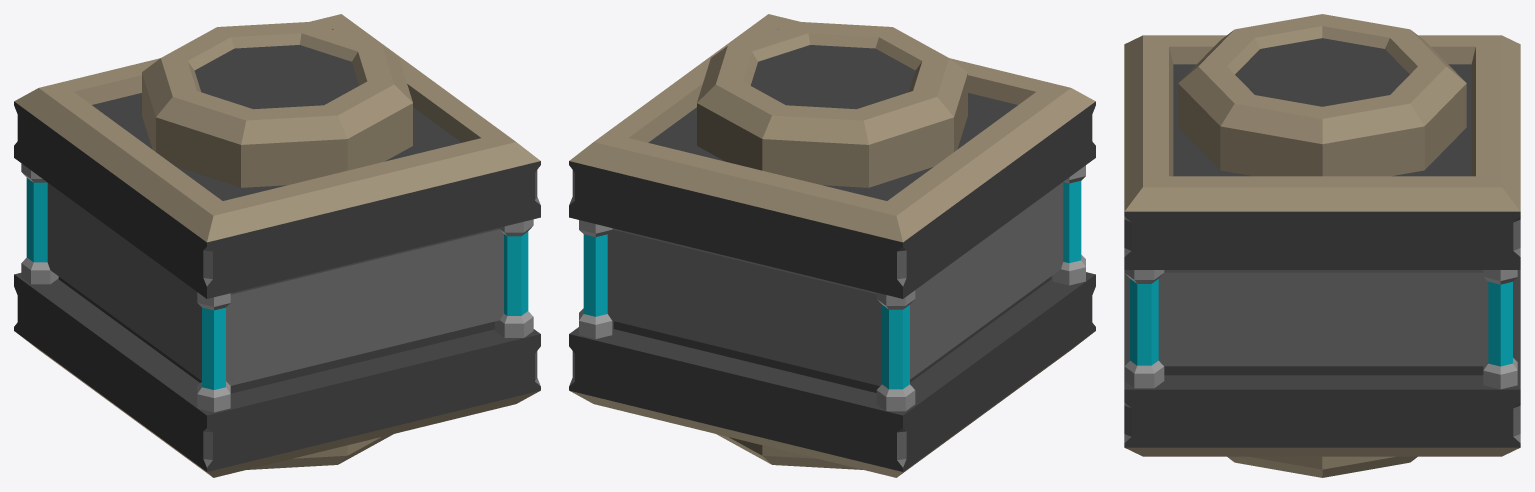
Rendered from Crate2.fbx.
3 renders of one model, left to right at view 1: azimuth 30°, elevation 25°; view 2: azimuth 150°, elevation 25°; view 3: azimuth 270°, elevation 25°, orthographic. The views are drawn at different scales.
Visible parts, largest first — view 1: ToolCrate07.001, ToolCrate07, ToolCrate07.002; view 2: ToolCrate07.001, ToolCrate07, ToolCrate07.002; view 3: ToolCrate07.001, ToolCrate07, ToolCrate07.002.
Part boxes in pixels (x1=…): ToolCrate07.001: x1=14, y1=14, x2=540, y2=298; ToolCrate07: x1=21, y1=163, x2=533, y2=412; ToolCrate07.002: x1=14, y1=273, x2=540, y2=477; ToolCrate07.001: x1=569, y1=14, x2=1095, y2=298; ToolCrate07: x1=579, y1=165, x2=1085, y2=411; ToolCrate07.002: x1=569, y1=272, x2=1095, y2=477; ToolCrate07.001: x1=1124, y1=14, x2=1520, y2=269; ToolCrate07: x1=1124, y1=270, x2=1517, y2=389; ToolCrate07.002: x1=1124, y1=270, x2=1520, y2=477.
Bounding box in the file's own units: 40 × 40 × 40.
